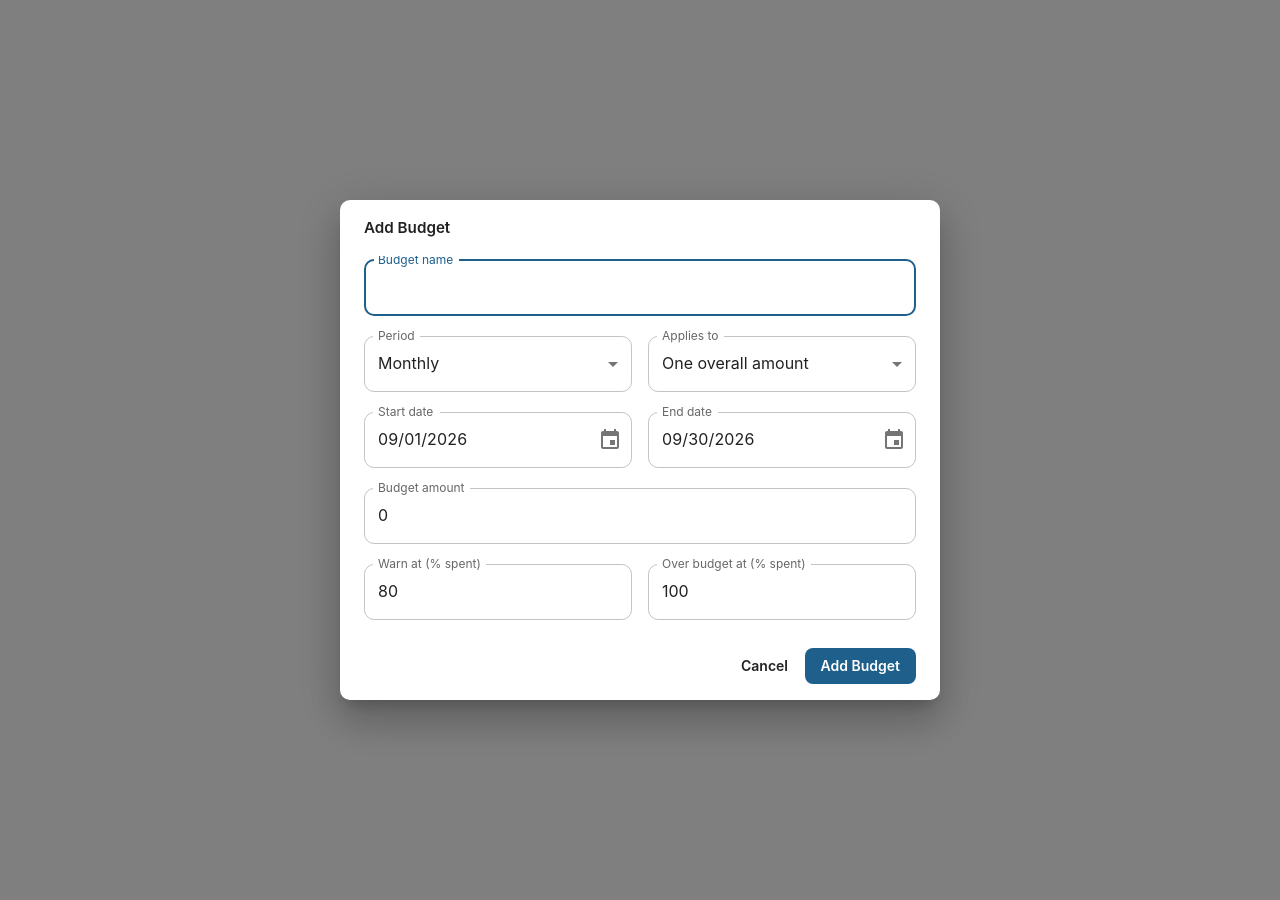
Test: BudgetFormDialog › requires a name
Replace the text in the number field labelled "Budget amount" with "1000" at (640, 516), box [364,488,916,544]
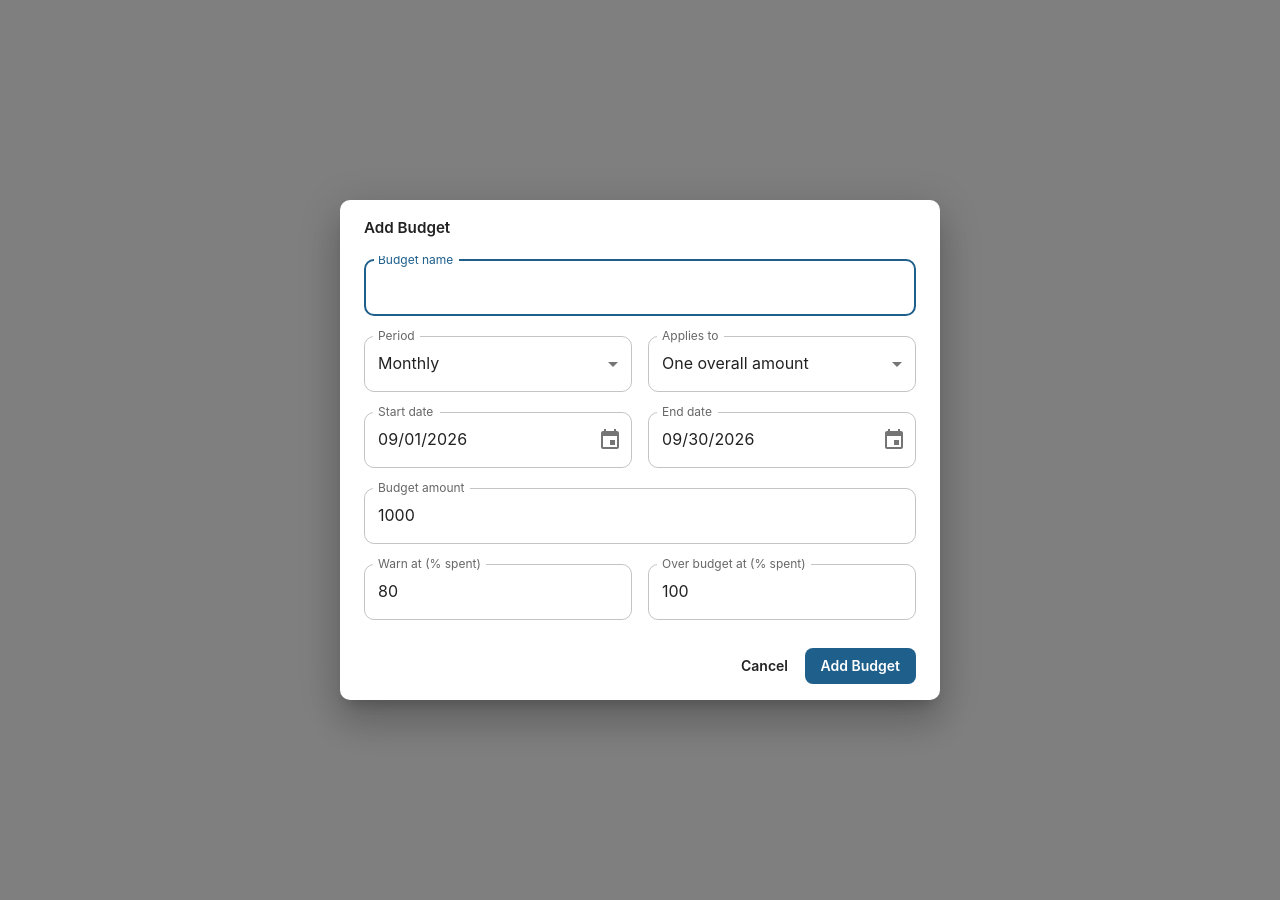
Click the button "Add Budget".
click(860, 666)  # box [804,648,916,684]
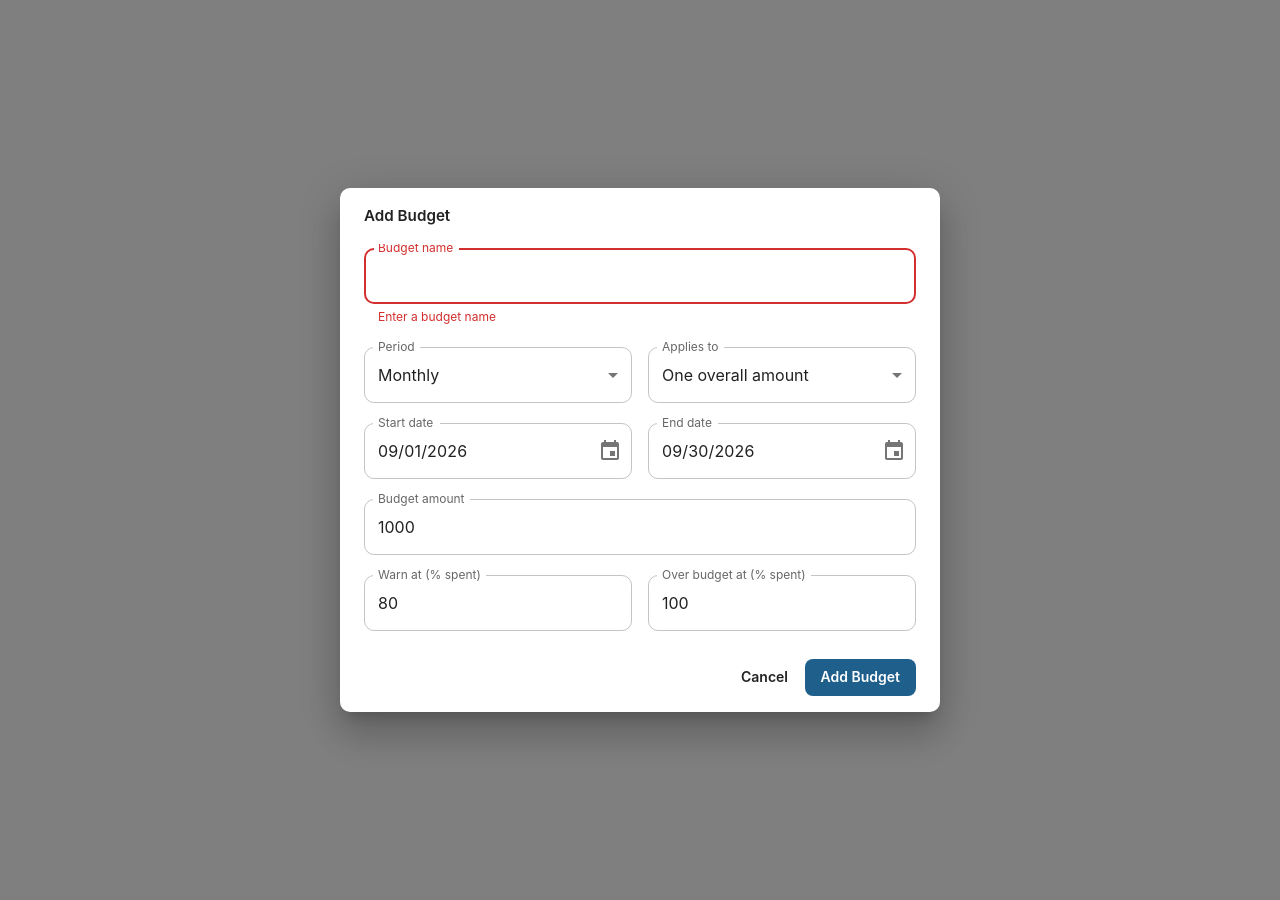
Check: the text "Enter a budget name" is shown, box [378,310,496,324]
